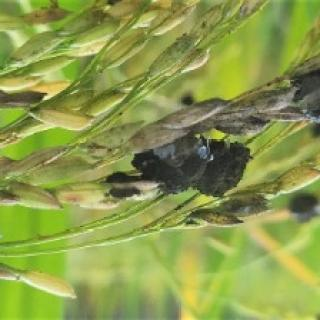Gosong-Palsu: (133, 137, 206, 194), (193, 141, 251, 197), (290, 71, 319, 124), (289, 196, 319, 223)
